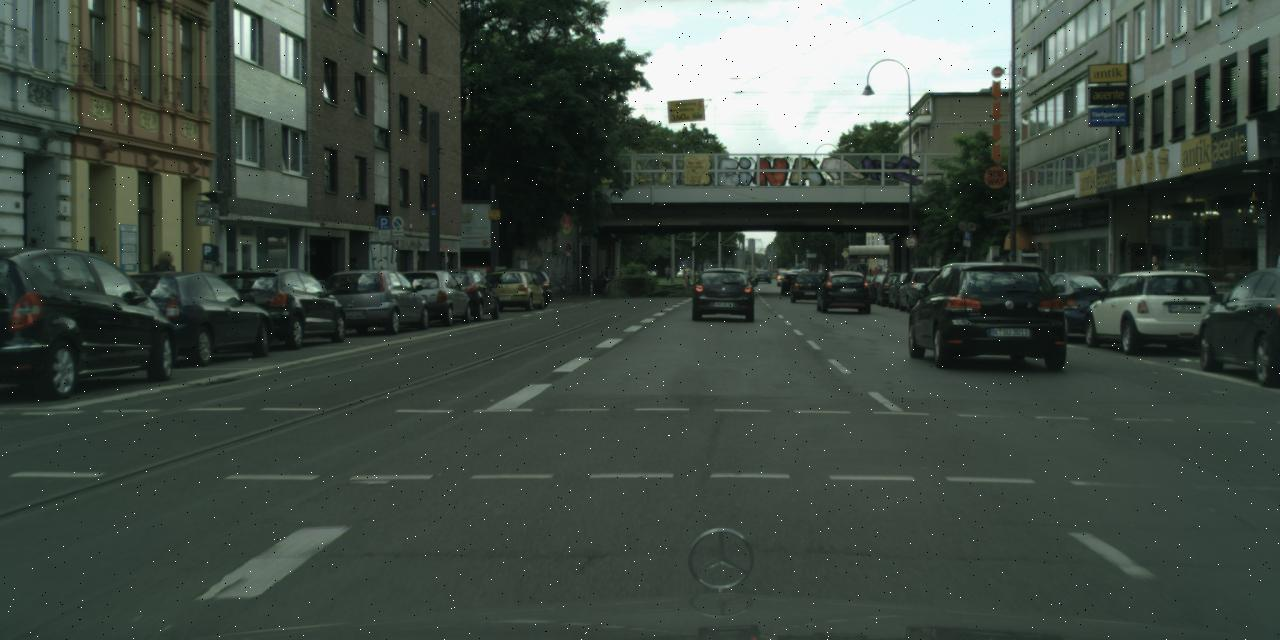ped: (149, 250, 181, 330), (1141, 255, 1167, 318), (663, 265, 669, 282)
